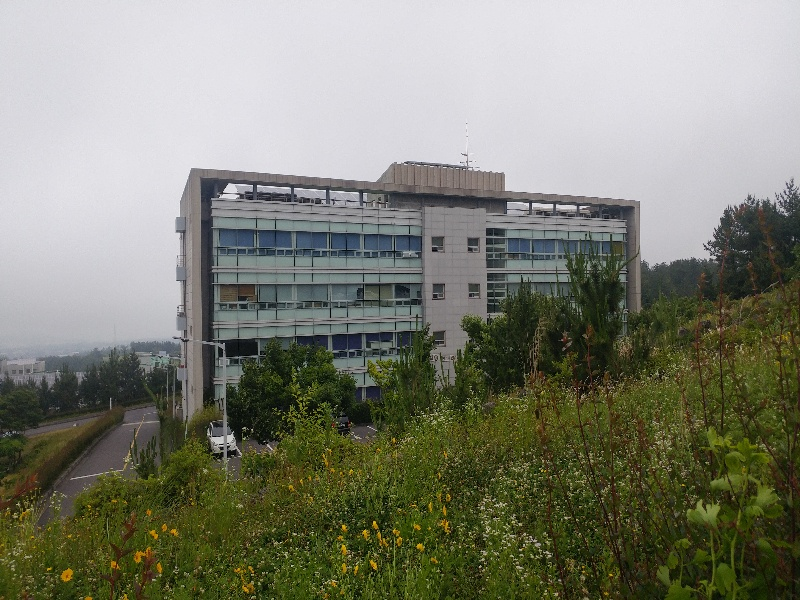College of Marine Science: (168, 126, 656, 432), (166, 147, 649, 367)
